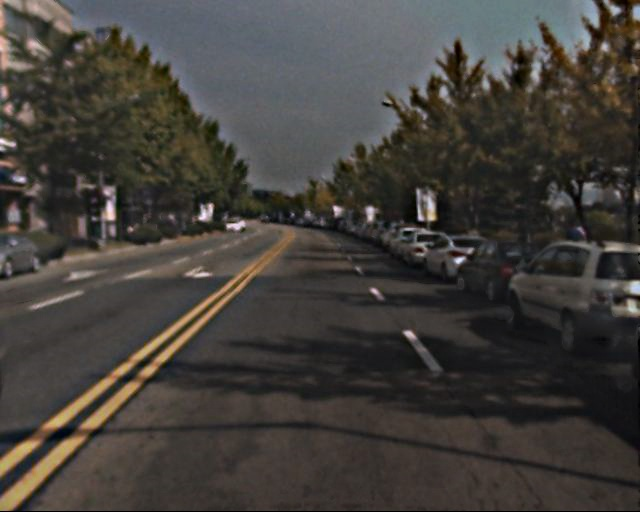person: (557, 219, 587, 282)
